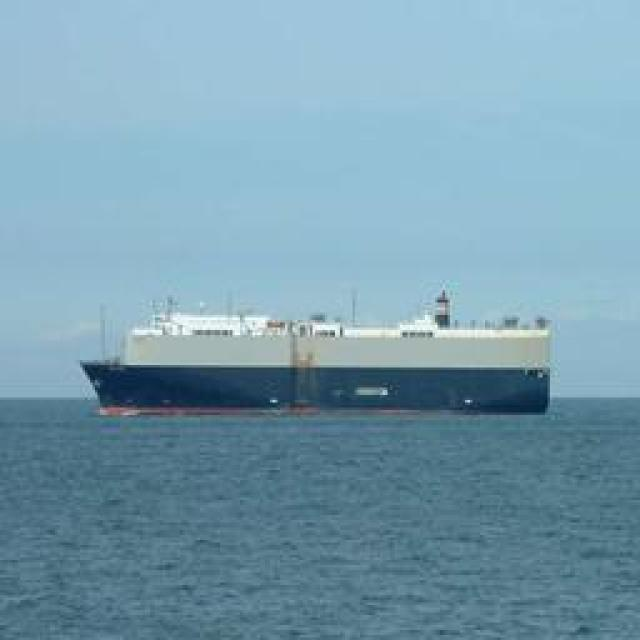CIV_Ship: (90, 295, 552, 413)
